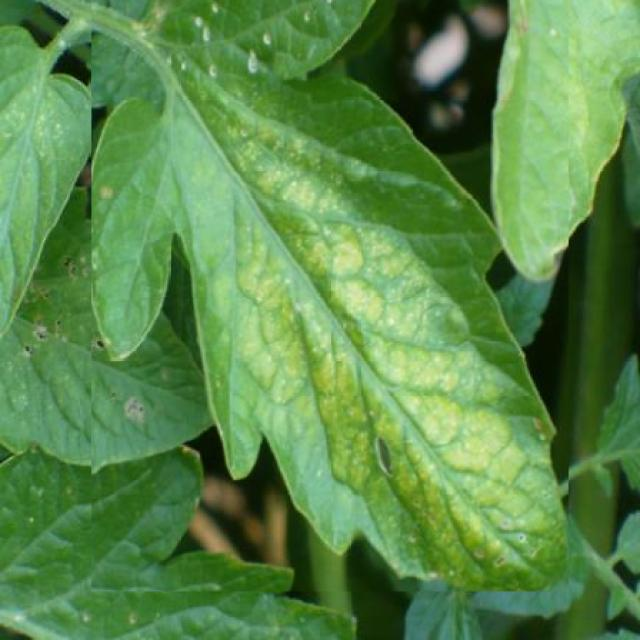Spider Mites: (91, 0, 568, 591)
